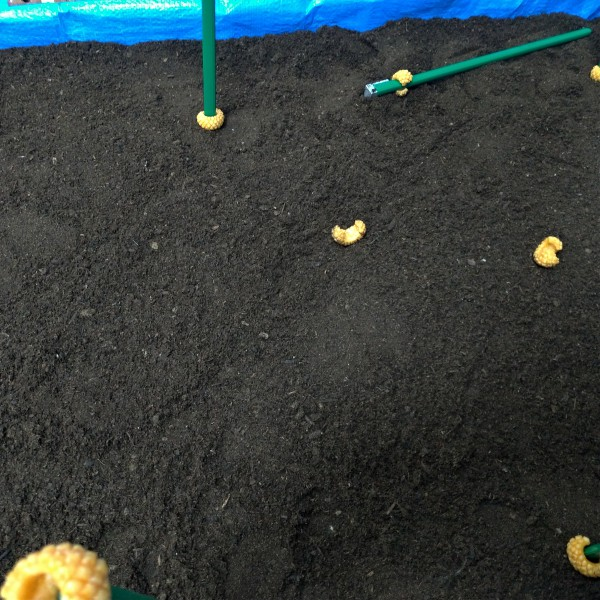eggs: (1, 532, 145, 598), (559, 519, 600, 582), (529, 232, 563, 277), (324, 218, 368, 249), (195, 103, 228, 133), (384, 65, 413, 99), (587, 55, 600, 88)
